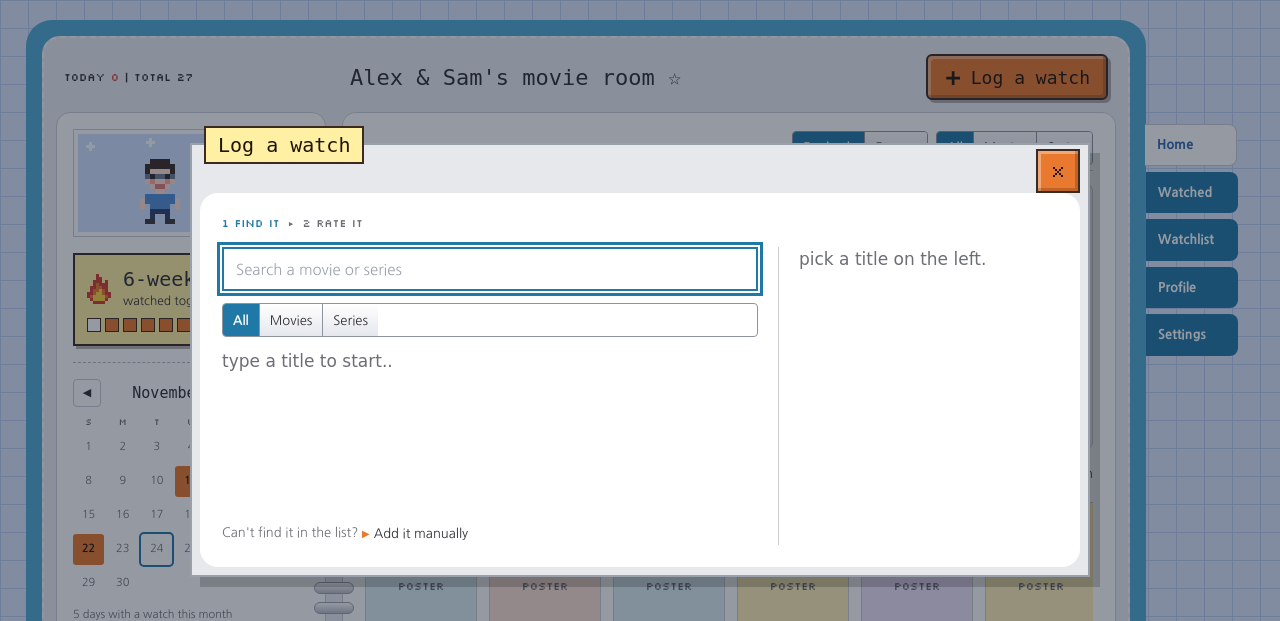
Test: Log a watch › adds a title manually and requires a genre
Click the button "▶ Add it manually" at x=415, y=533, box [362,521,468,545]
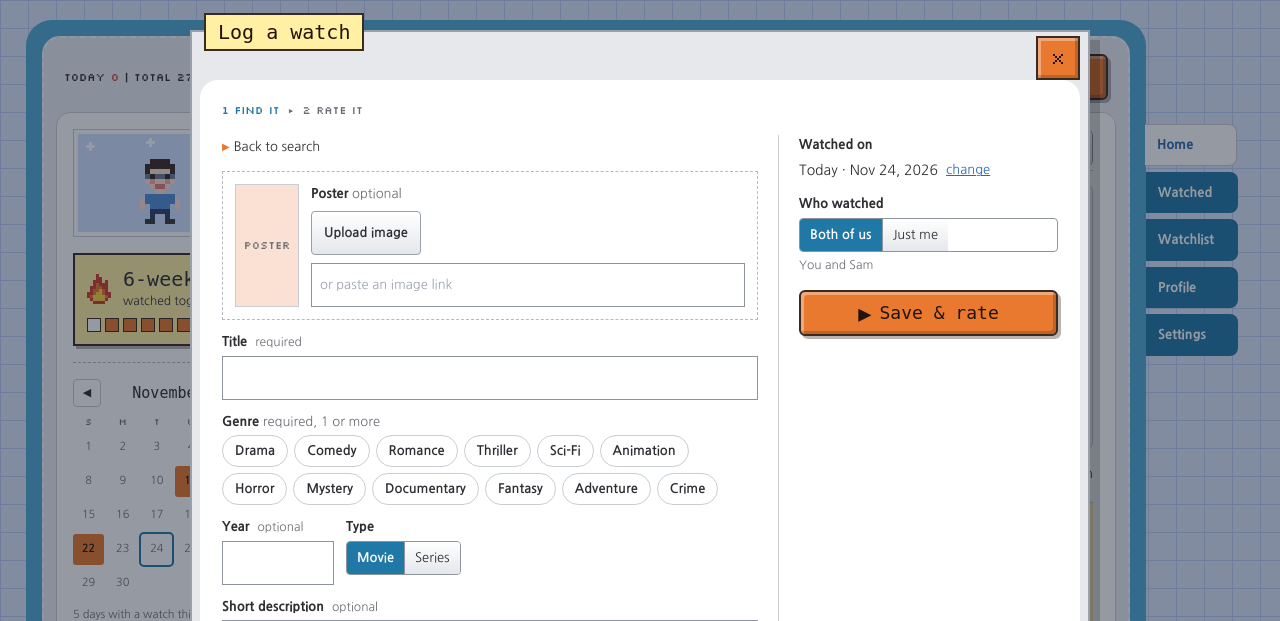
Type "Our Home Video" into the field labelled "Title required" at x=490, y=378, box [222,356,758,400]
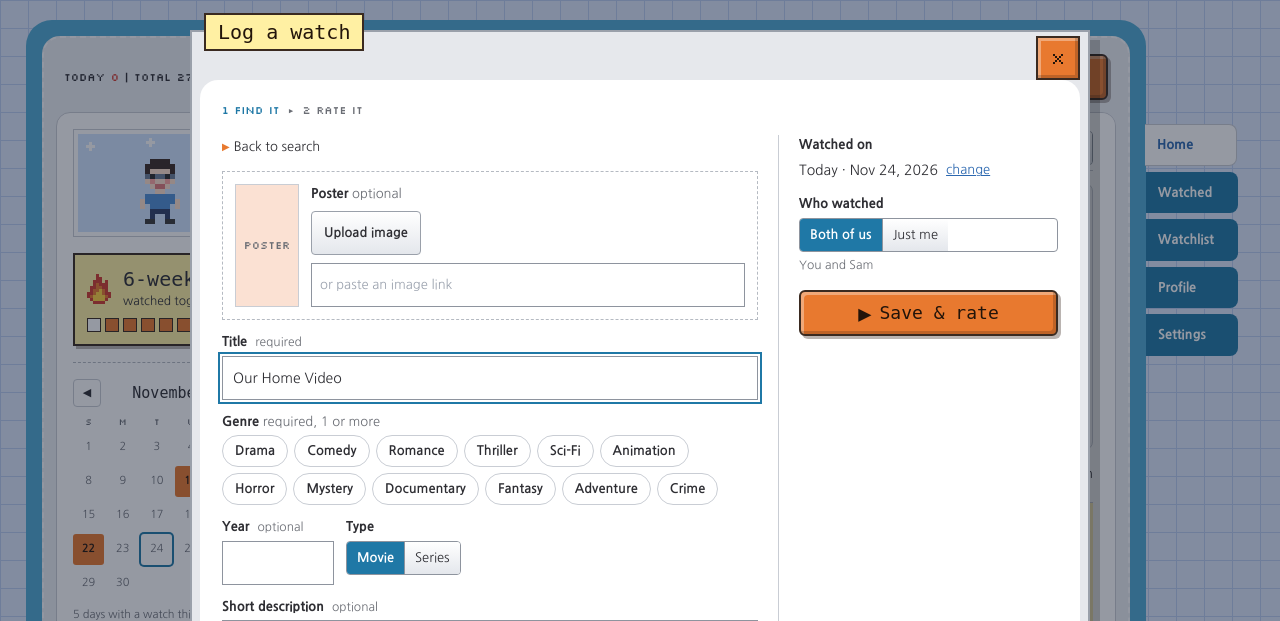
Click the button "▶ Save & rate" at x=928, y=312, box [799,290,1058,336]
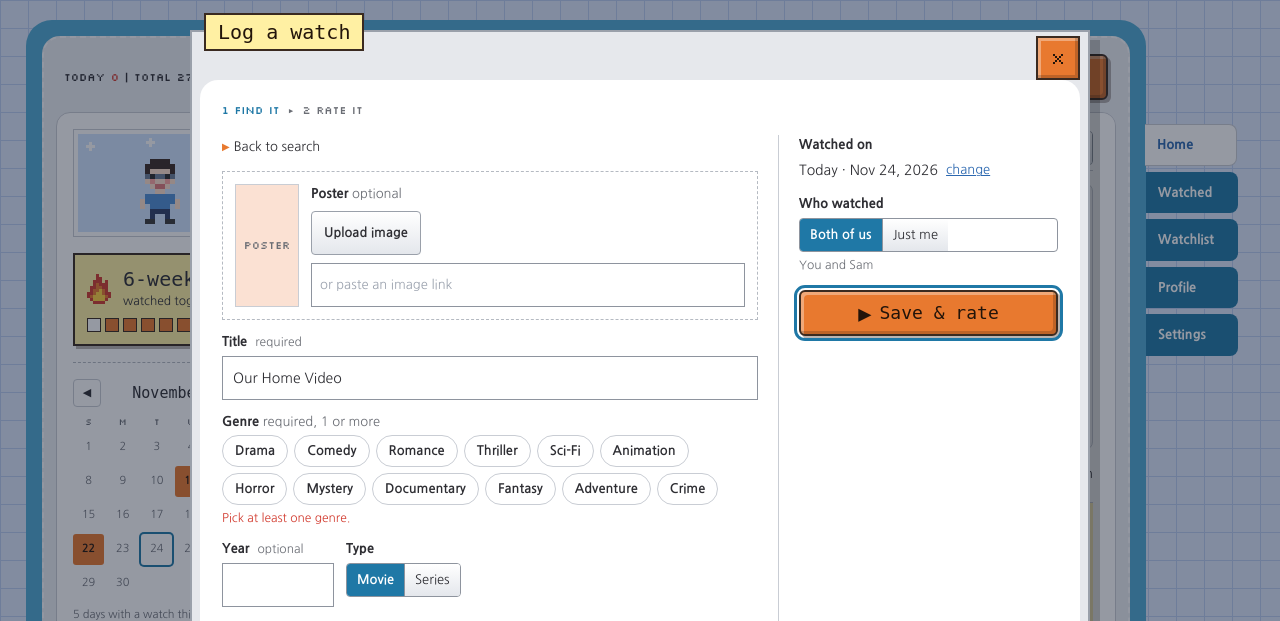
Expected: the text "Pick at least one genre." is shown, [222,512,350,524]
Click the button "Documentary" at x=426, y=489, box [372,473,479,505]
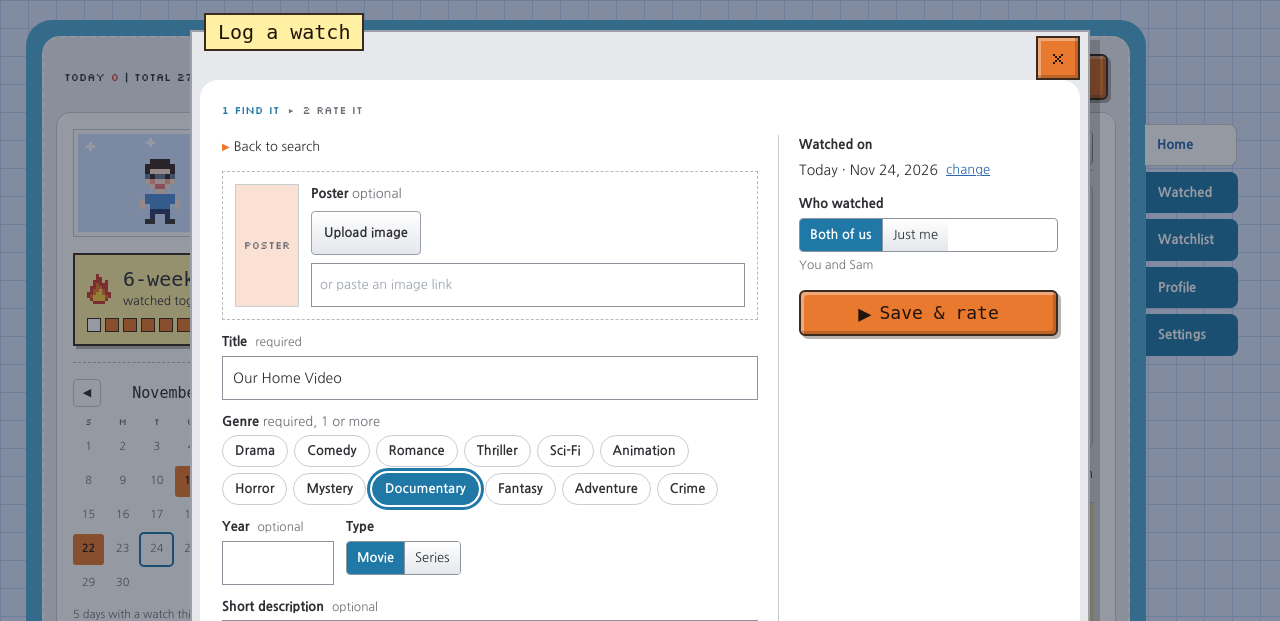
Click the button "▶ Save & rate" at x=928, y=312, box [799,290,1058,336]
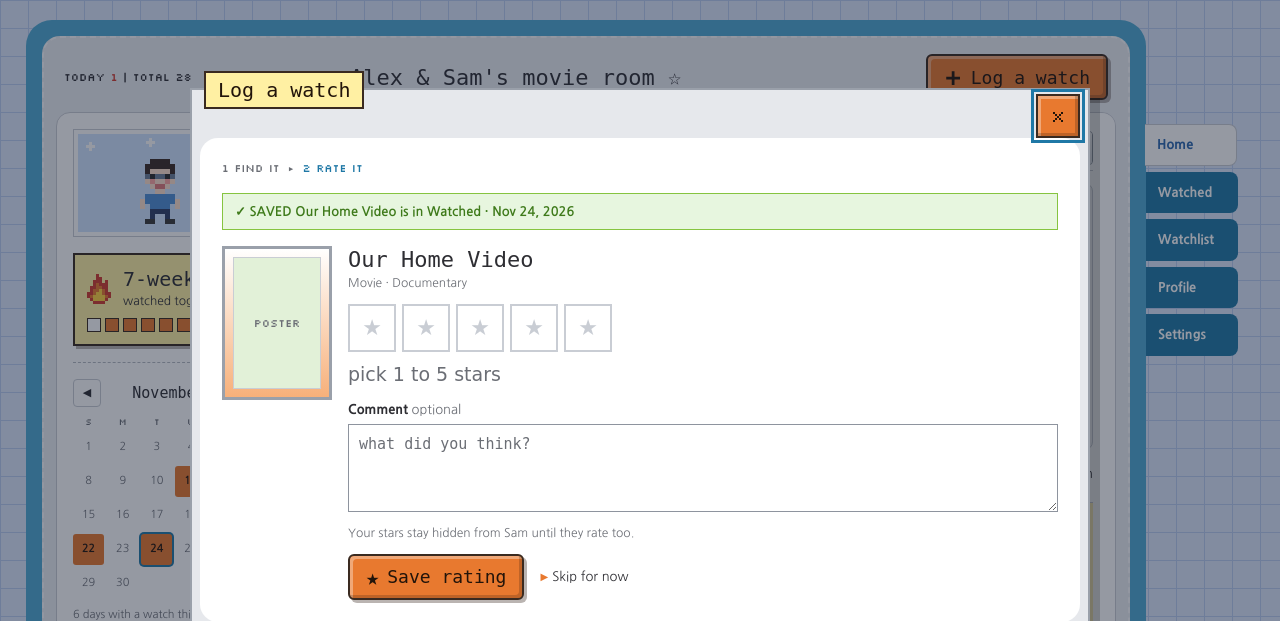
Expected: the text "✓ SAVED Our Home Video is in Watched · Nov 24, 2026" is shown, [222,193,1058,230]
